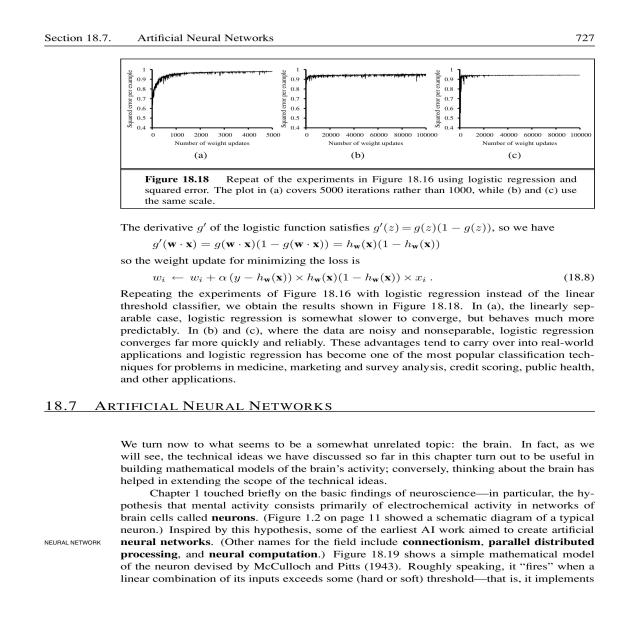diagram: (103, 51, 640, 215)
